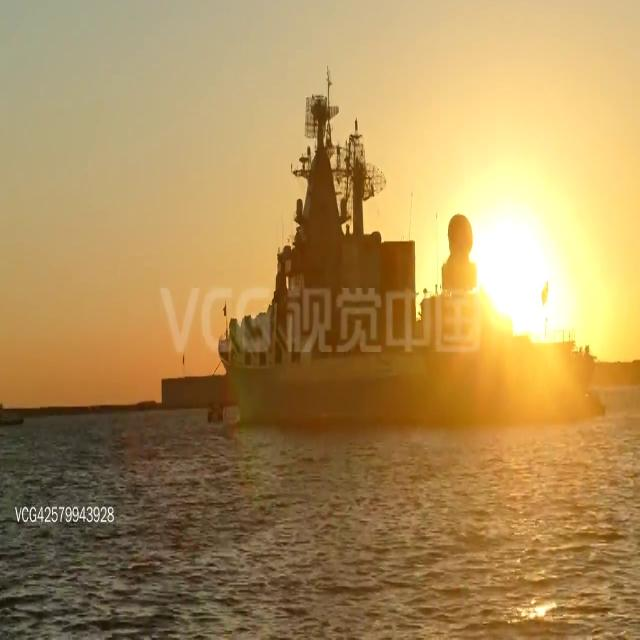cargoship: (0, 397, 26, 427)
navalvessels: (220, 82, 594, 410)
